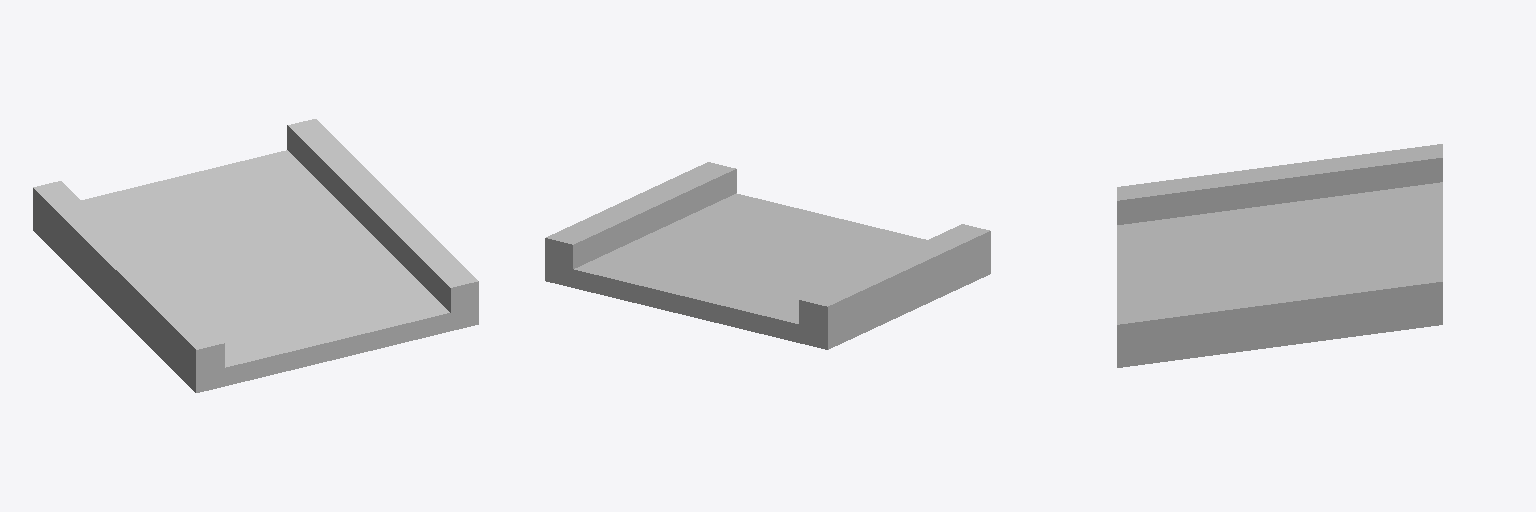
The model's file is Ramp_1_01.obj.
The picture shows the model from 3 angles: view 1: azimuth 30°, elevation 25°; view 2: azimuth 150°, elevation 25°; view 3: azimuth 270°, elevation 25°; orthographic projection.
Visible parts, largest first — view 1: Mesh1 Ramp_1 Model; view 2: Mesh1 Ramp_1 Model; view 3: Mesh1 Ramp_1 Model.
Boxes of the visible parts, x1=… form: Mesh1 Ramp_1 Model: x1=33, y1=119, x2=478, y2=392; Mesh1 Ramp_1 Model: x1=545, y1=162, x2=990, y2=349; Mesh1 Ramp_1 Model: x1=1117, y1=144, x2=1442, y2=367.
Bounding box in the file's own units: 3 × 0.88 × 3.